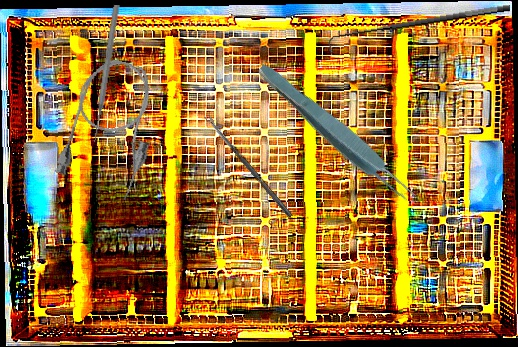Cannula: (51, 51, 171, 203)
Hook Surgical: (324, 1, 513, 55)
Pusher: (90, 4, 121, 143)
Surgical Spoon: (204, 113, 294, 219)
Tissue Forceps: (251, 57, 422, 210)
